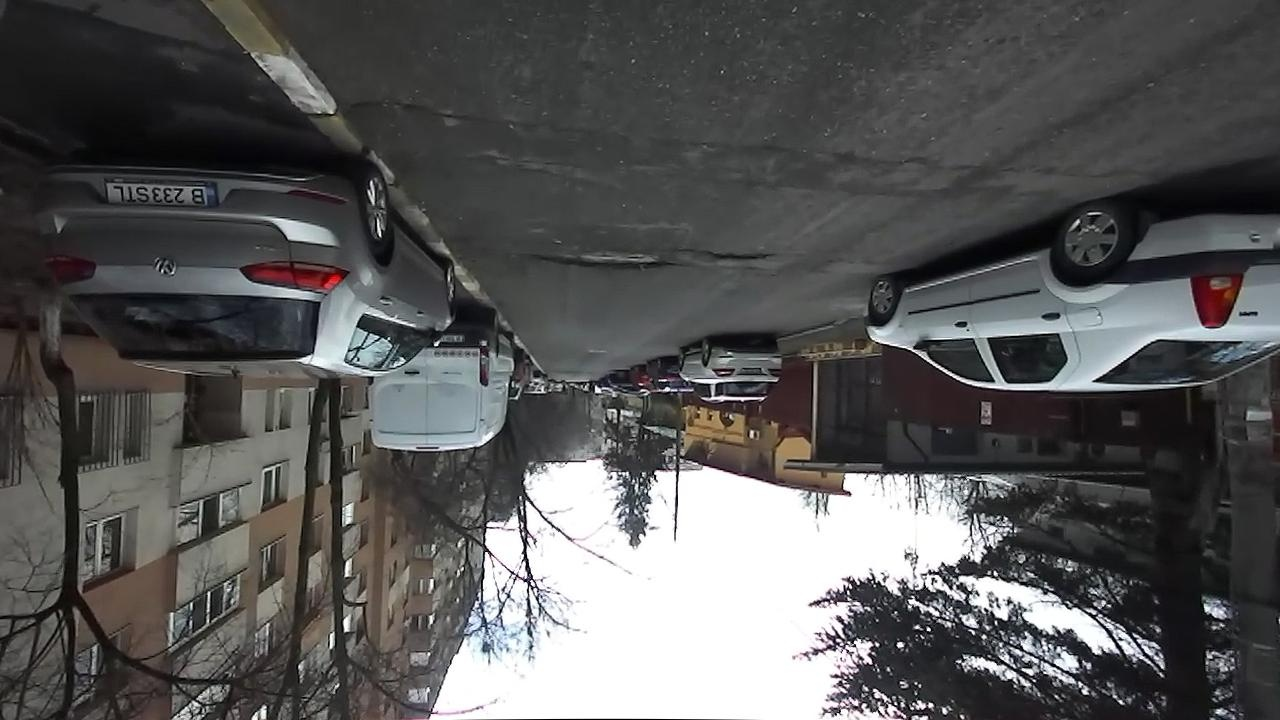pothole: (524, 243, 680, 272), (348, 92, 473, 123), (701, 249, 777, 265)
